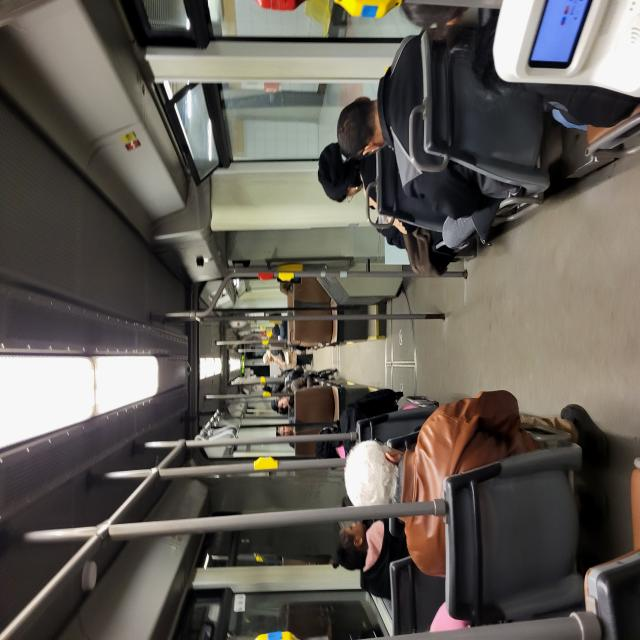asiento-libre: (221, 390, 250, 452)
